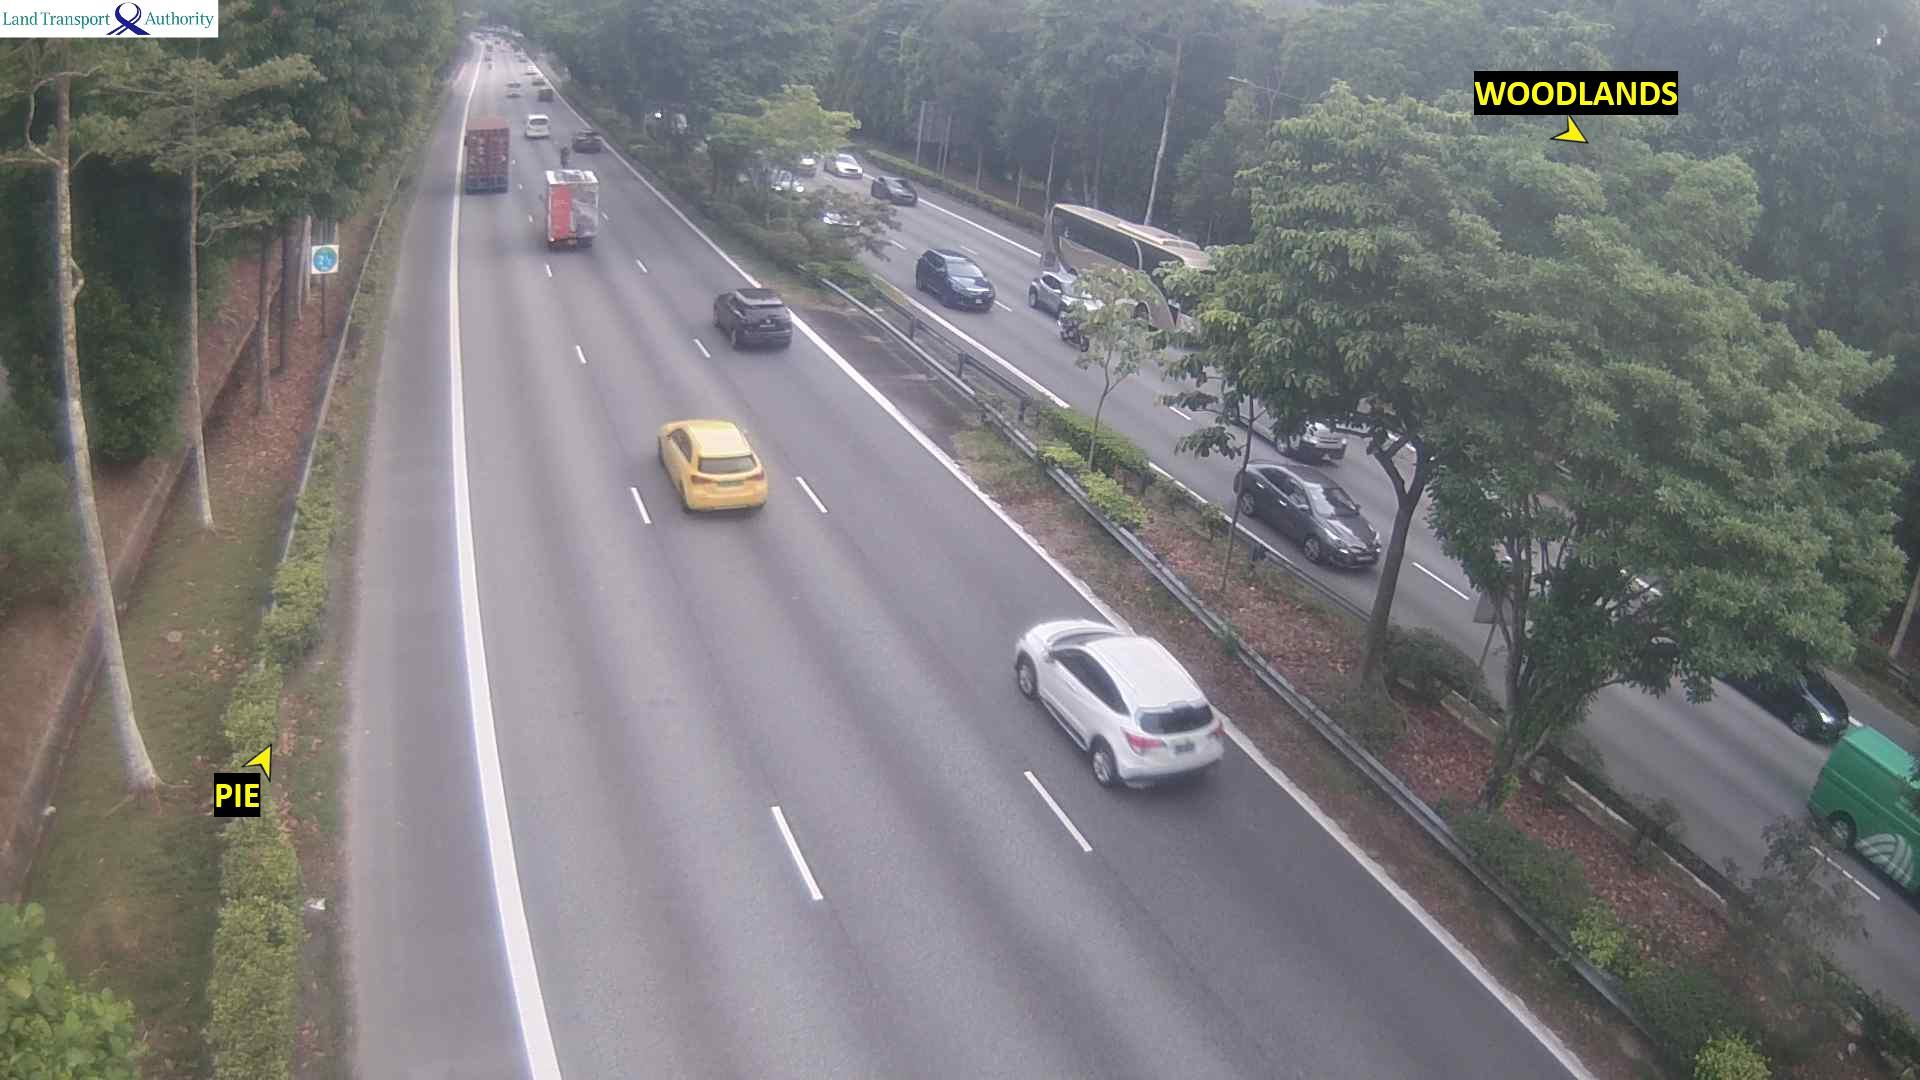incoming: (1292, 483, 1382, 576), (940, 260, 1000, 311), (880, 179, 918, 207), (835, 156, 864, 181)
